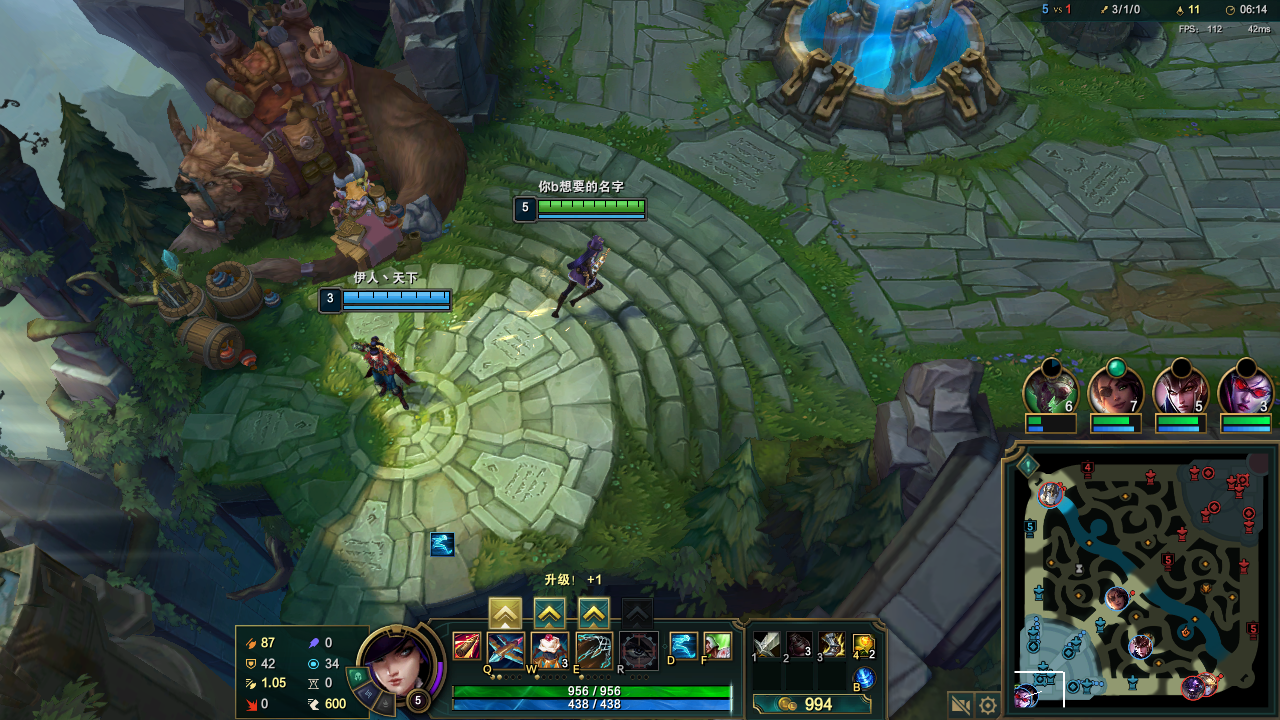Jidi: (196, 85, 406, 174)
Shenji: (581, 602, 608, 625), (536, 602, 560, 622)
Tuijianshengji: (493, 599, 515, 622)
WFSJ: (781, 16, 927, 118)
